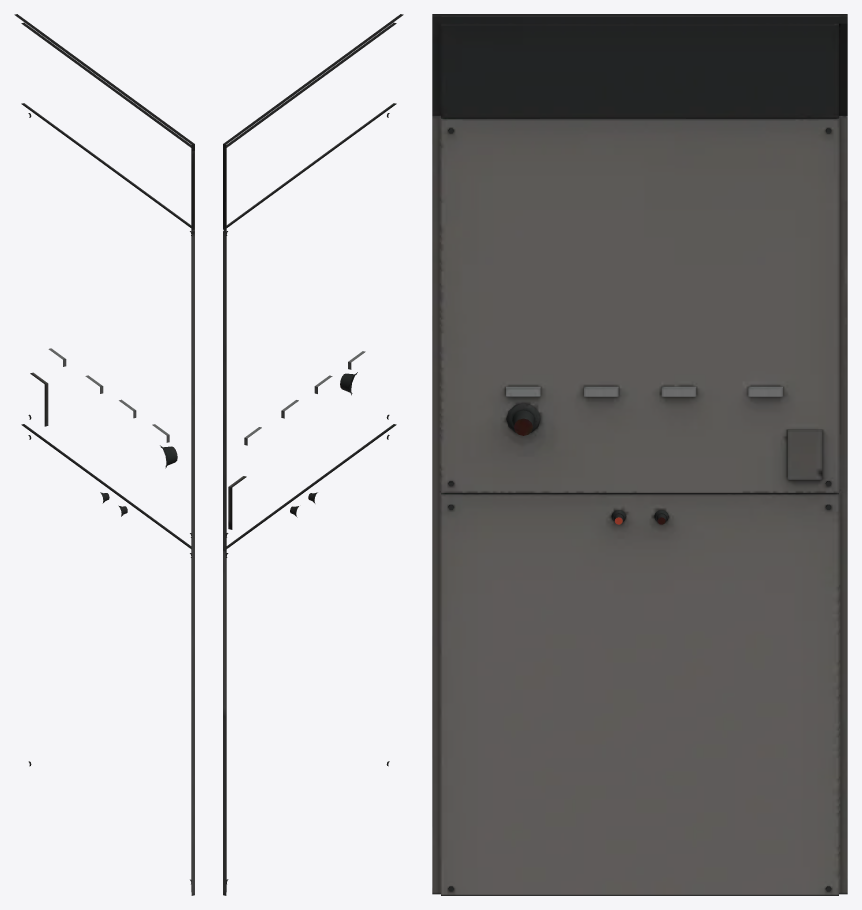
3 renders of one model, left to right at view 1: azimuth 30°, elevation 25°; view 2: azimuth 150°, elevation 25°; view 3: azimuth 270°, elevation 25°, orthographic. The views are drawn at different scales.
Parts seen in each view (by area): view 1: body0_model0_lod0_mesh0; view 2: body0_model0_lod0_mesh0; view 3: body0_model0_lod0_mesh0.
Boxes of the visible parts, <box> form: body0_model0_lod0_mesh0: <box>14,14,194,895</box>; body0_model0_lod0_mesh0: <box>223,14,403,895</box>; body0_model0_lod0_mesh0: <box>432,14,847,895</box>.
Bounding box in the file's own units: 3.25 × 112 × 47.99.
Materials: 1 (1 with a texture image).
